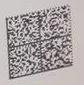datamatrix: (6, 5, 74, 80)
